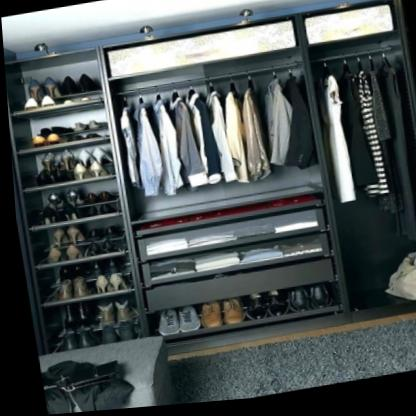Transparent Closet: (3, 2, 416, 356)
